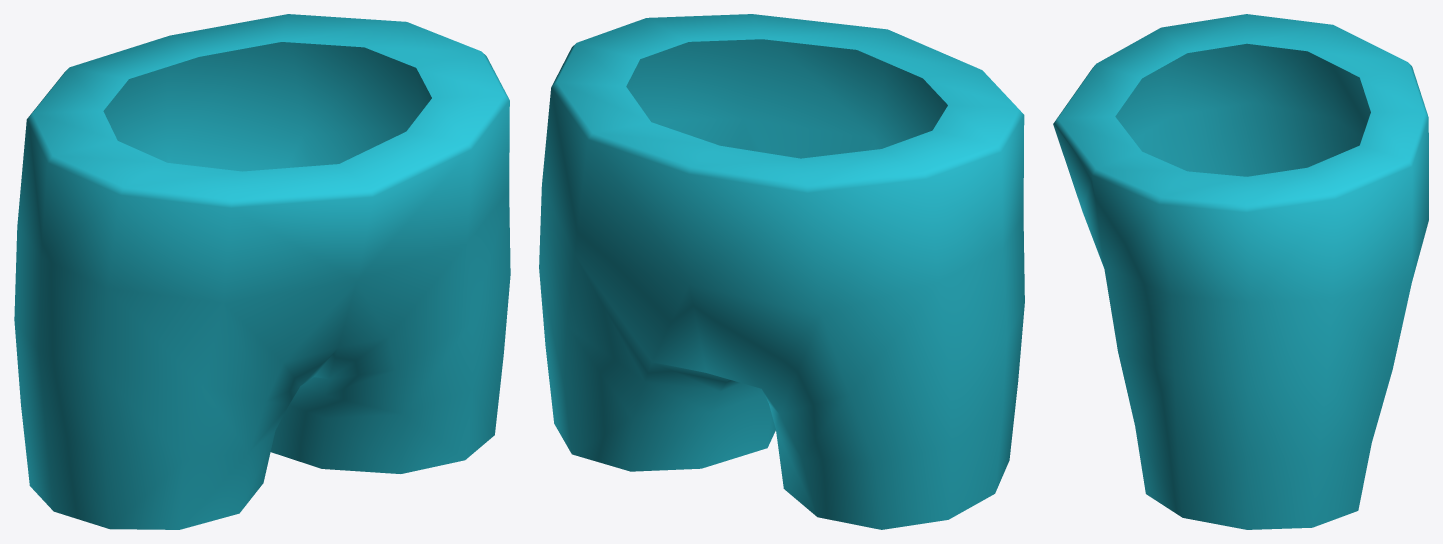
The model's file is Pants_Light_Blue_004.glb.
3 views of the same model, side by side, from view 1: azimuth 30°, elevation 25°; view 2: azimuth 150°, elevation 25°; view 3: azimuth 270°, elevation 25° (orthographic). The views are drawn at different scales.
Parts seen in each view (by area): view 1: Pants_Light_Blue_004; view 2: Pants_Light_Blue_004; view 3: Pants_Light_Blue_004.
Part boxes in pixels (x1=…): Pants_Light_Blue_004: x1=14, y1=14, x2=510, y2=529; Pants_Light_Blue_004: x1=539, y1=14, x2=1024, y2=529; Pants_Light_Blue_004: x1=1053, y1=14, x2=1428, y2=529.
Size of the model in its own units: 0.4529 by 0.3473 by 0.3561.
1 material, 1 textured.
